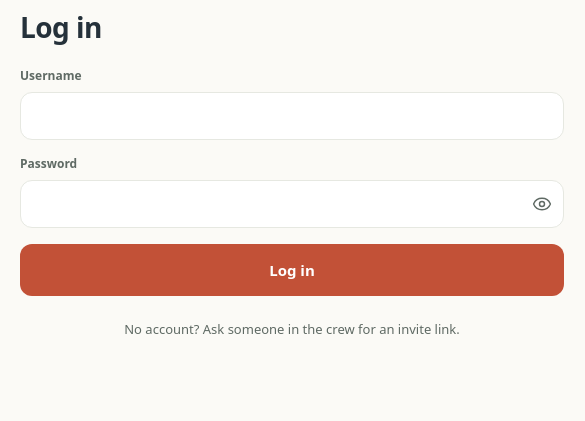
Test: login › shows wrong credentials in a banner
Type "ana" into the field labelled "Username" at (292, 116), box [20, 92, 564, 140]
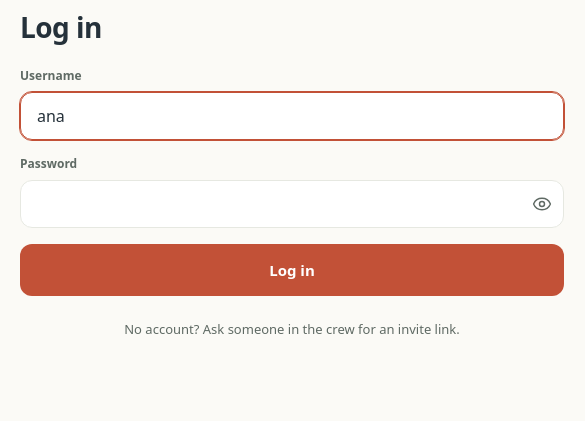
Type "nope" into the password field labelled "Password" at (292, 204), box [20, 180, 564, 228]
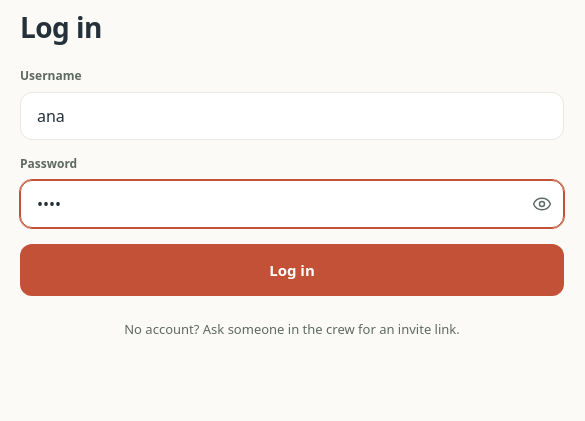
Click the button "Log in" at (292, 270), box [20, 244, 564, 296]
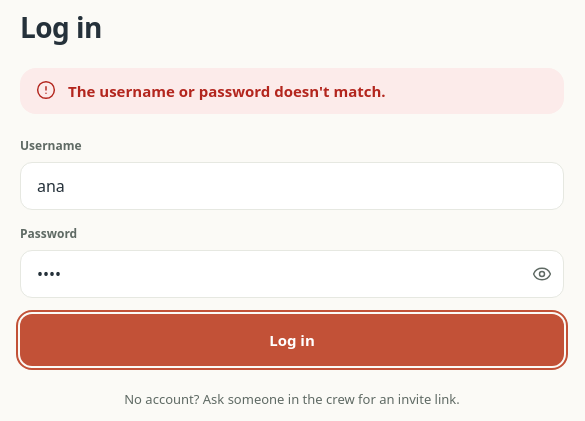
Expected: the message reads "The username or password doesn't match.", [68, 81, 386, 101]
